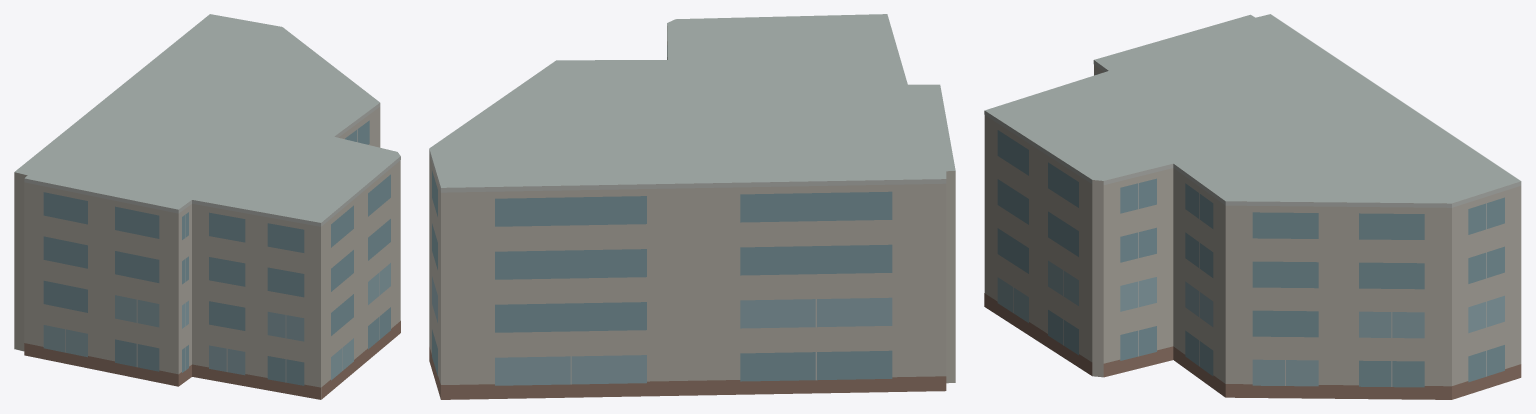
The model's file is survey-upis-32614394.glb.
3 renders of one model, left to right at view 1: azimuth 30°, elevation 25°; view 2: azimuth 150°, elevation 25°; view 3: azimuth 270°, elevation 25°, orthographic. The views are drawn at different scales.
Parts seen in each view (by area): view 1: survey-upis-32614394.tmp; view 2: survey-upis-32614394.tmp; view 3: survey-upis-32614394.tmp.
Boxes of the visible parts, x1,y1,x2,y2 form: survey-upis-32614394.tmp: (14, 14, 400, 399); survey-upis-32614394.tmp: (429, 14, 955, 399); survey-upis-32614394.tmp: (984, 14, 1521, 399).
Size of the model in its own units: 22.77 by 11 by 27.26.
